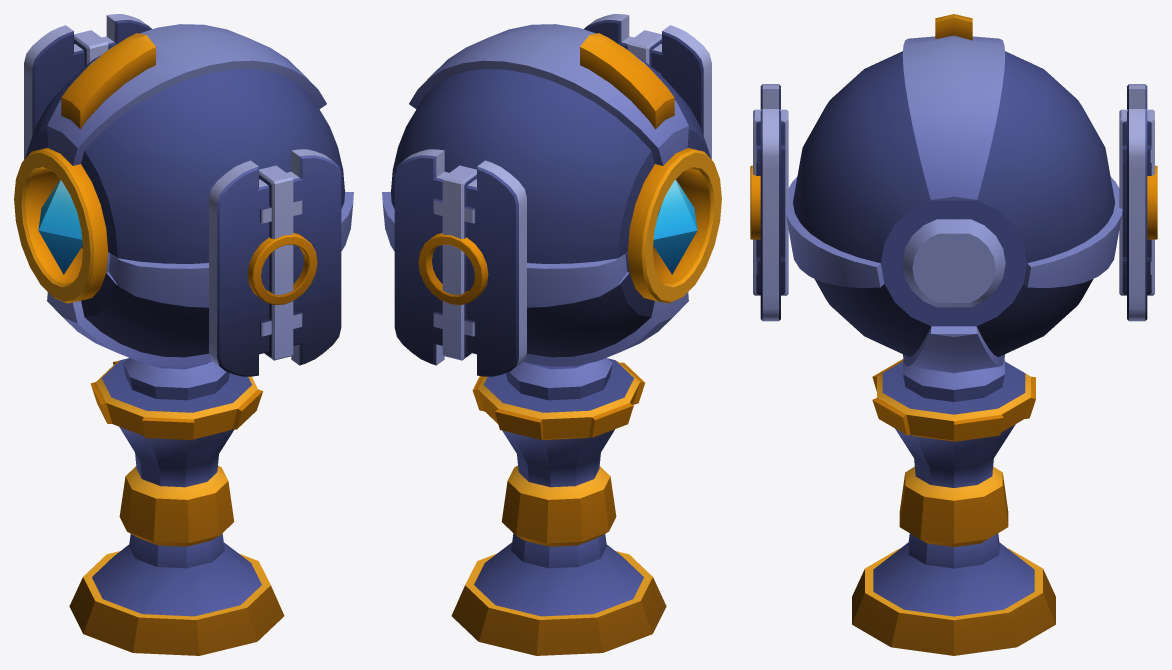
The model's file is Laser_Machine.fbx.
3 views of the same model, side by side, from view 1: azimuth 30°, elevation 25°; view 2: azimuth 150°, elevation 25°; view 3: azimuth 270°, elevation 25° (orthographic).
Parts seen in each view (by area): view 1: Head1, Stand; view 2: Head1, Stand; view 3: Head1, Stand.
Boxes of the visible parts, x1=… form: Head1: x1=14, y1=14, x2=353, y2=376; Stand: x1=69, y1=357, x2=284, y2=655; Head1: x1=382, y1=14, x2=721, y2=376; Stand: x1=451, y1=357, x2=666, y2=655; Head1: x1=750, y1=14, x2=1157, y2=373; Stand: x1=852, y1=359, x2=1055, y2=655.
Bounding box in the file's own units: 0.0124 × 0.0248 × 0.0158.
Materials: 1 (1 with a texture image).
